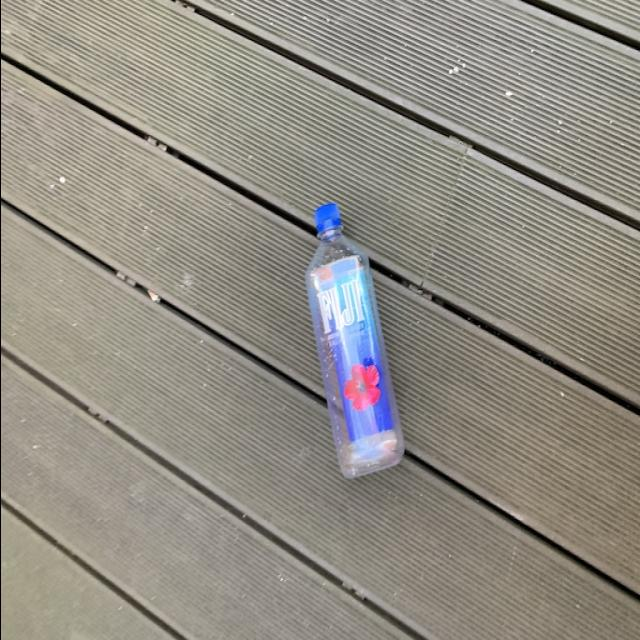litter: (298, 202, 410, 488)
